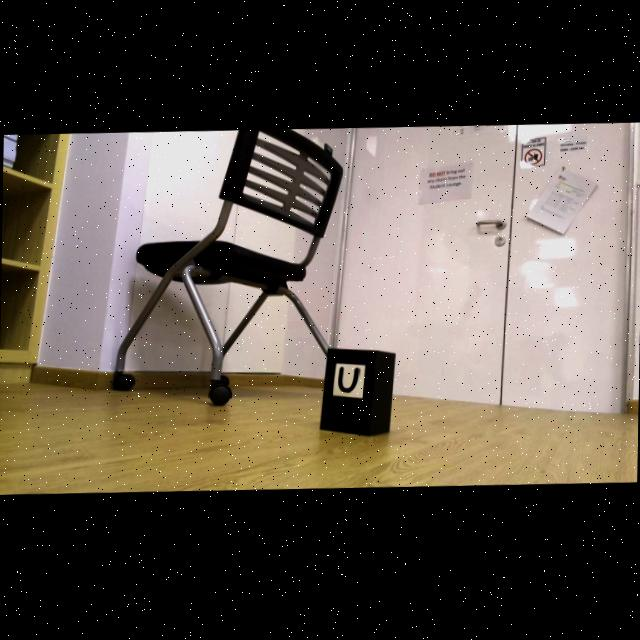U: (338, 369, 359, 394)
